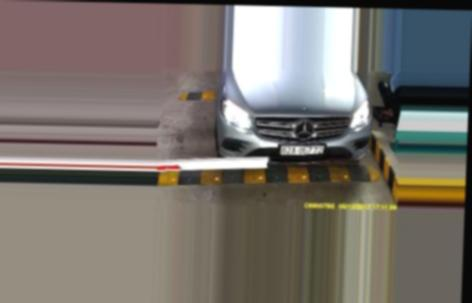License_Plate: (276, 143, 330, 157)
